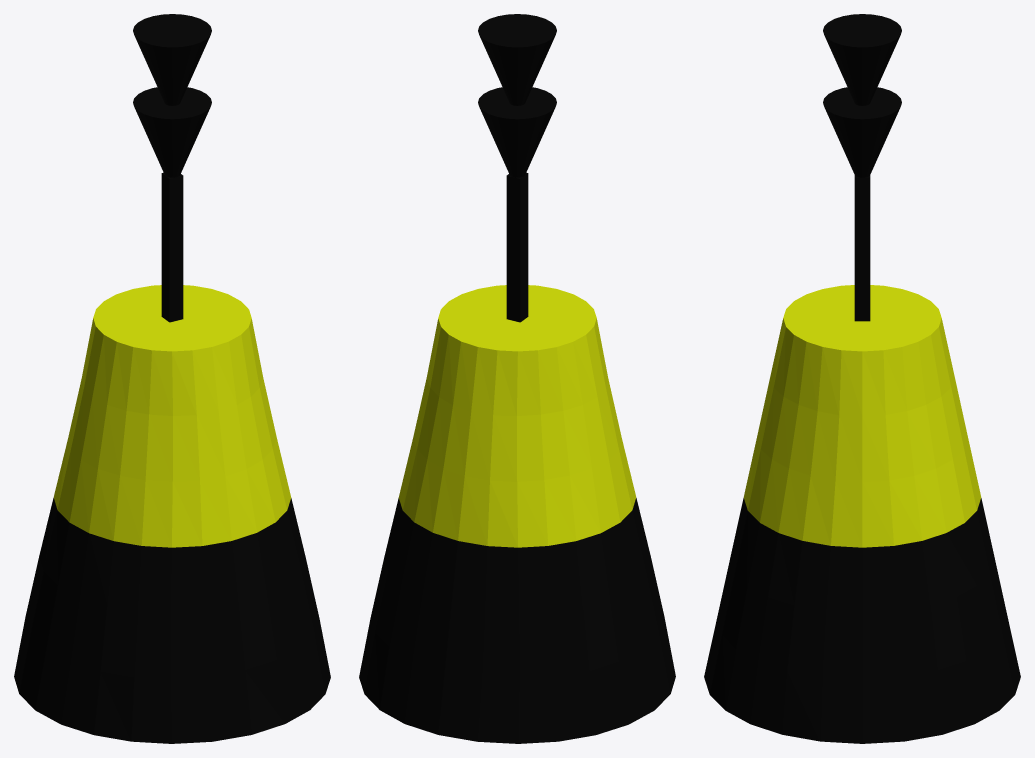
Rendered from south.dae.
3 views of the same model, side by side, from view 1: azimuth 30°, elevation 25°; view 2: azimuth 150°, elevation 25°; view 3: azimuth 270°, elevation 25° (orthographic).
Parts seen in each view (by area): view 1: Cone01-FAC; view 2: Cone01-FAC; view 3: Cone01-FAC.
Part boxes in pixels (bbox=[...]): Cone01-FAC: bbox=[14, 14, 330, 743]; Cone01-FAC: bbox=[359, 14, 675, 743]; Cone01-FAC: bbox=[704, 14, 1020, 743].
Size of the model in its own units: 1.02 by 1.02 by 2.29.
